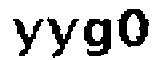0: (116, 6, 151, 53)
g: (82, 17, 115, 60)
y: (44, 13, 81, 59), (8, 16, 46, 60)
